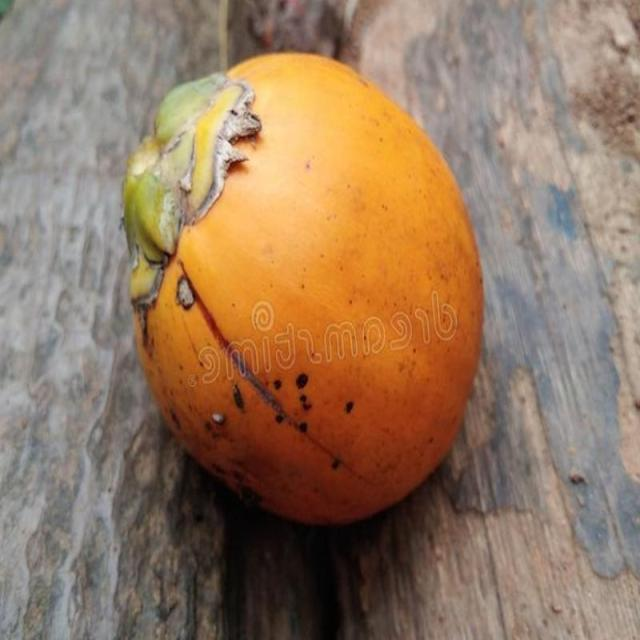good: (123, 52, 484, 530)
